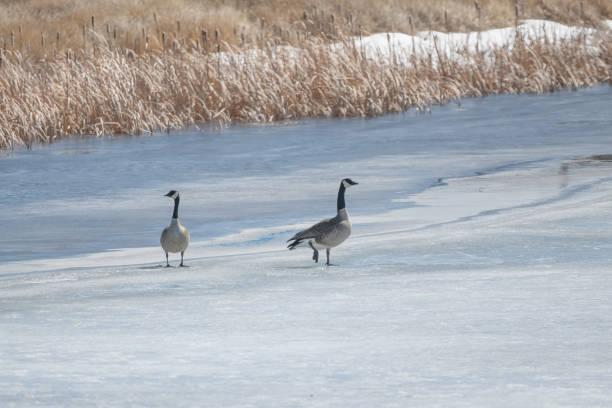Canadian-Goose: (287, 177, 366, 266), (158, 186, 194, 268)
